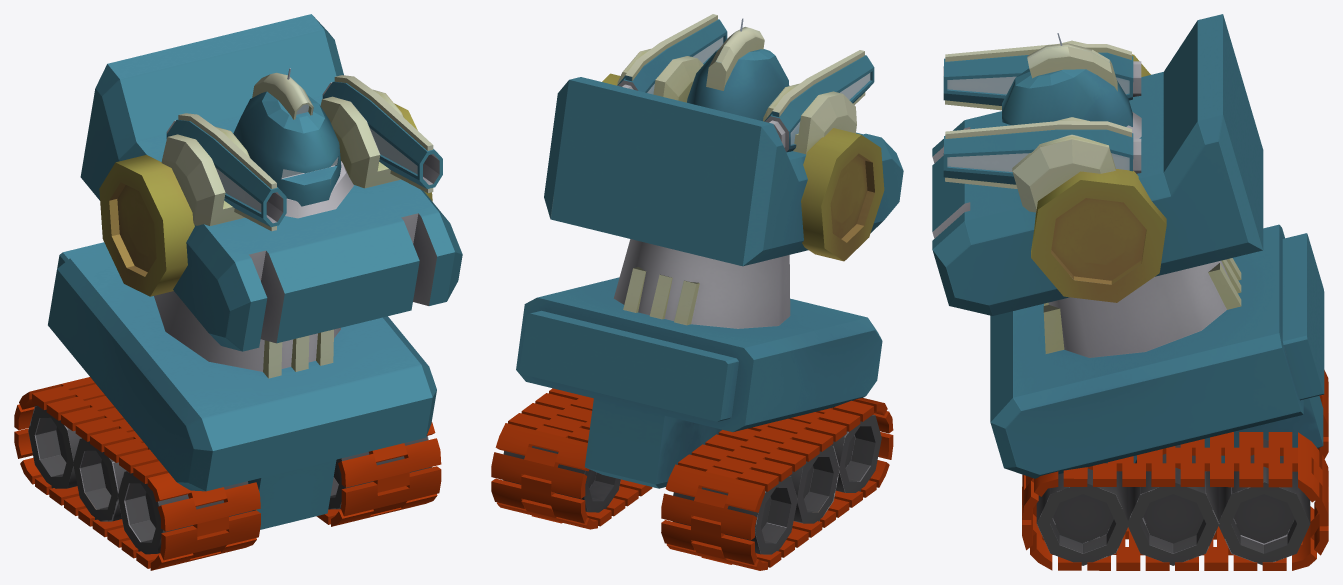
Rendered from player_move5.obj.
3 views of the same model, side by side, from view 1: azimuth 30°, elevation 25°; view 2: azimuth 150°, elevation 25°; view 3: azimuth 270°, elevation 25° (orthographic). The views are drawn at different scales.
Parts seen in each view (by area): view 1: Object004, Box038, Object012, Object011, Box042; view 2: Object004, Box038, Box042, Object011, Object012; view 3: Object004, Object011, Box042, Object012, Box038.
Part boxes in pixels (bbox=[...]): Object004: bbox=[48, 14, 462, 529]; Box038: bbox=[14, 377, 260, 570]; Object012: bbox=[166, 75, 442, 231]; Object011: bbox=[28, 405, 431, 554]; Box042: bbox=[316, 422, 441, 526]; Object004: bbox=[516, 27, 903, 488]; Box038: bbox=[661, 398, 893, 570]; Box042: bbox=[491, 388, 652, 529]; Object011: bbox=[503, 414, 881, 554]; Object012: bbox=[617, 14, 874, 152]; Object004: bbox=[932, 14, 1324, 478]; Object011: bbox=[1036, 439, 1310, 565]; Box042: bbox=[1022, 432, 1328, 570]; Object012: bbox=[943, 44, 1141, 188]; Box038: bbox=[1318, 370, 1328, 458].
Bounding box in the file's own units: 110 × 178 × 135.
3 materials, 1 textured.
